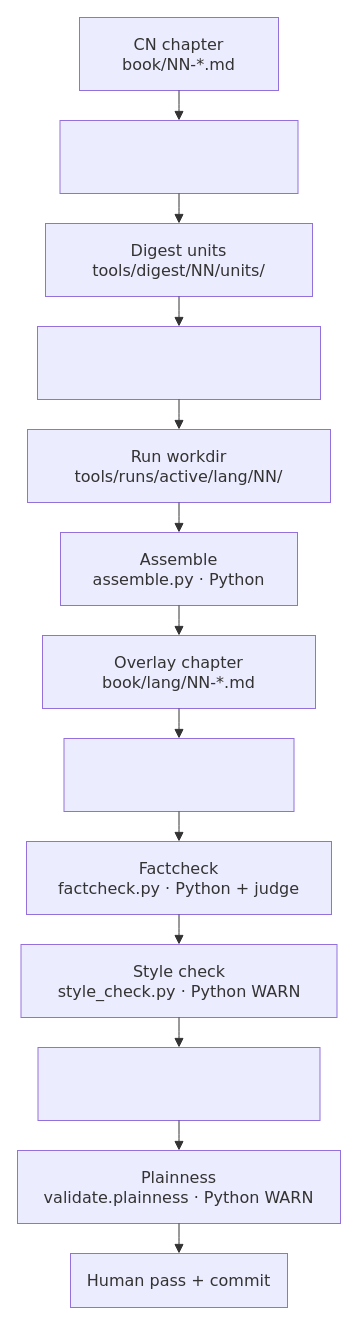
The diagram is 358 pixels wide and 1325 high, and some of its shapes have lost their labels. Each missing label, with the centre of its shape:
"Digest make_digest.py · Python" goes at point 178,157.
"LanguageTool lt_check.py · Docker LT" goes at point 178,1083.
"Translate unit translate_unit.py · LLM" goes at point 178,363.
"Verify verify.py · Python HARD" goes at point 178,775.
